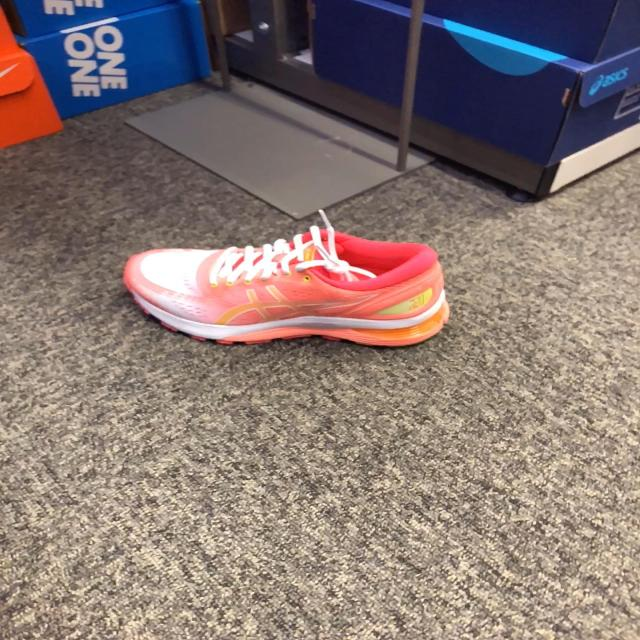shoe: (122, 222, 450, 351)
